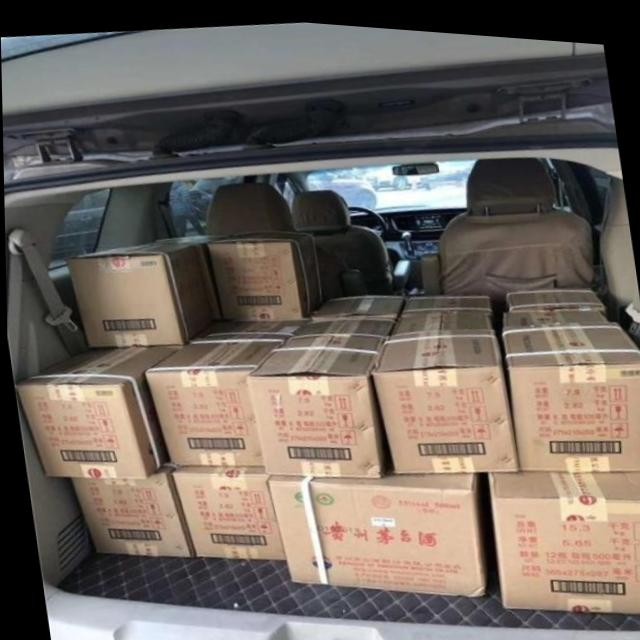box: (265, 460, 484, 588), (364, 304, 517, 467), (143, 314, 308, 463), (244, 312, 397, 471), (12, 342, 181, 477), (502, 299, 640, 460), (485, 459, 640, 602), (65, 240, 214, 344), (70, 458, 192, 554), (167, 462, 283, 556), (208, 225, 322, 315), (150, 231, 227, 316), (505, 277, 605, 306), (396, 285, 493, 312), (307, 289, 404, 313)
